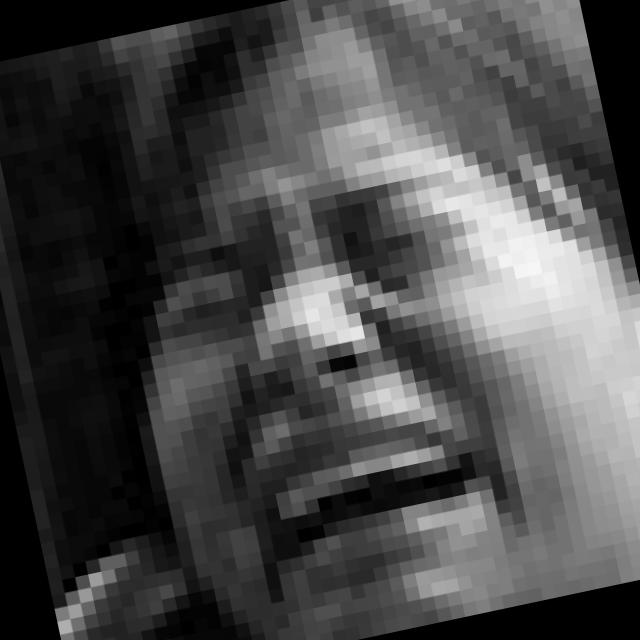sad: (132, 132, 586, 634)
